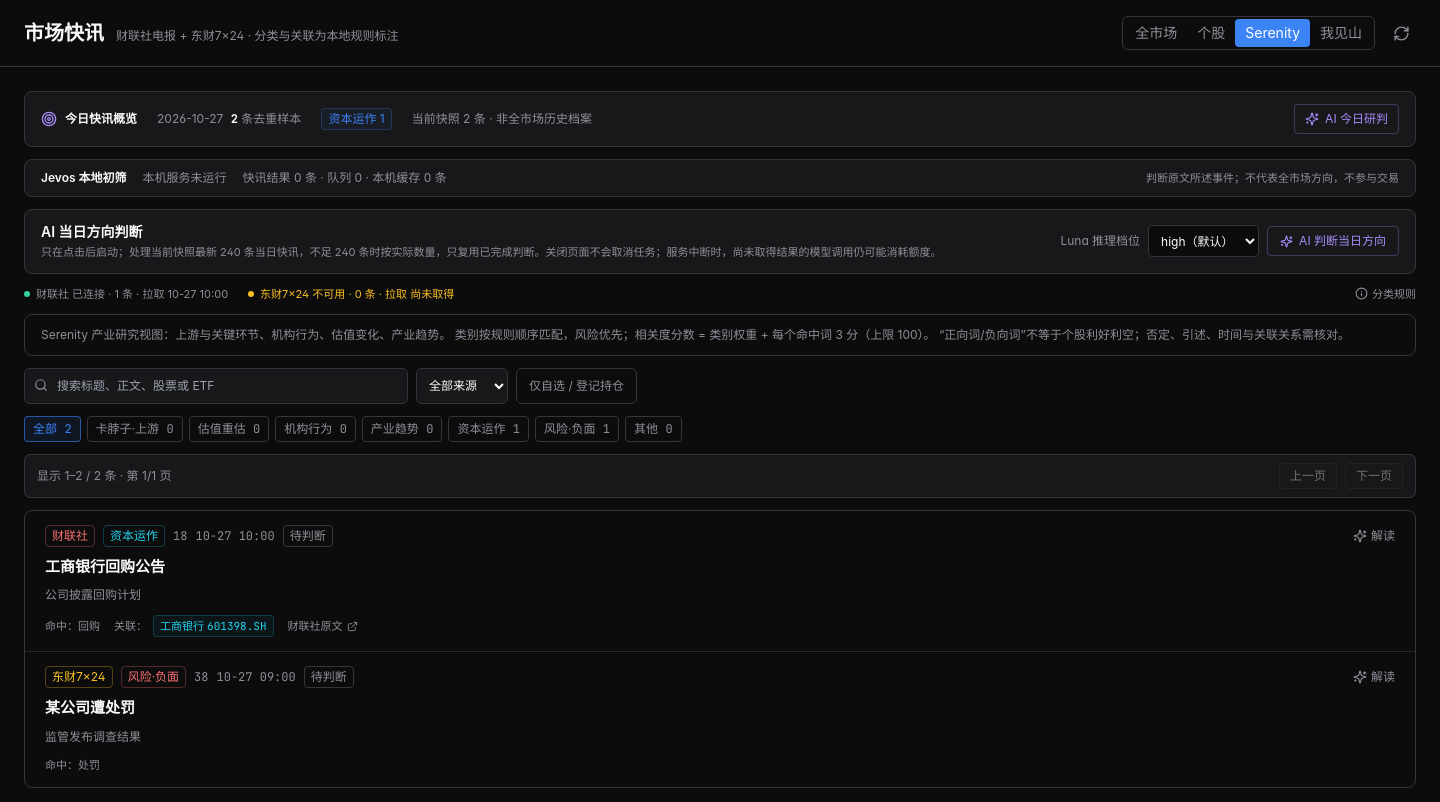
filters category with counts and changes view
This screenshot has width=1440, height=802.
Click the button "风险·负面 1" at (577, 428), box [535,416,619,442]
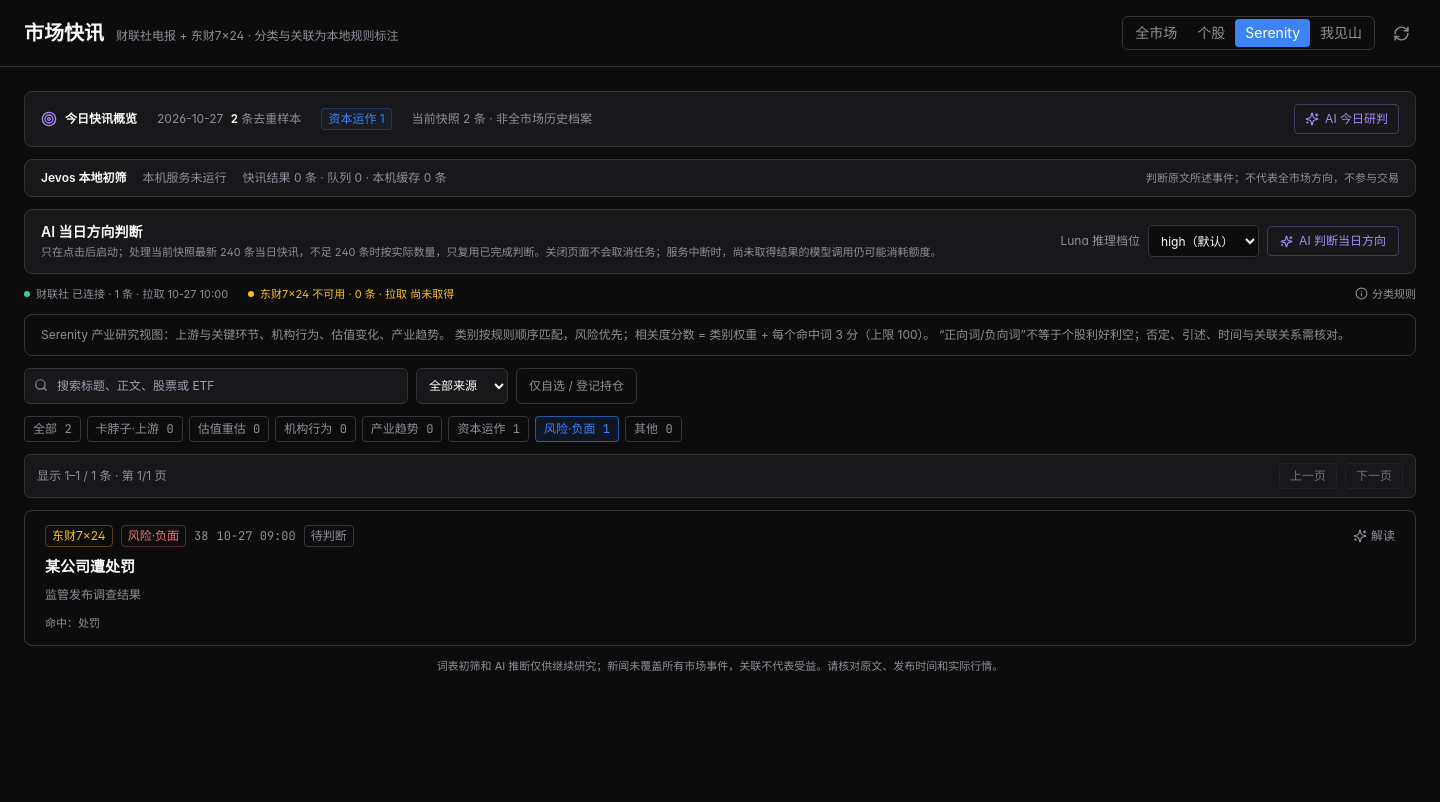
Expected: the element showing "东财7×24 风险·负面 38 10-27 09:00 待判断 解读 某公司遭处罚 监管发布调查结果 命中：处罚" is shown, [25,510,1415,645]
Click the button "个股" at (1211, 33), box [1187,19,1235,47]
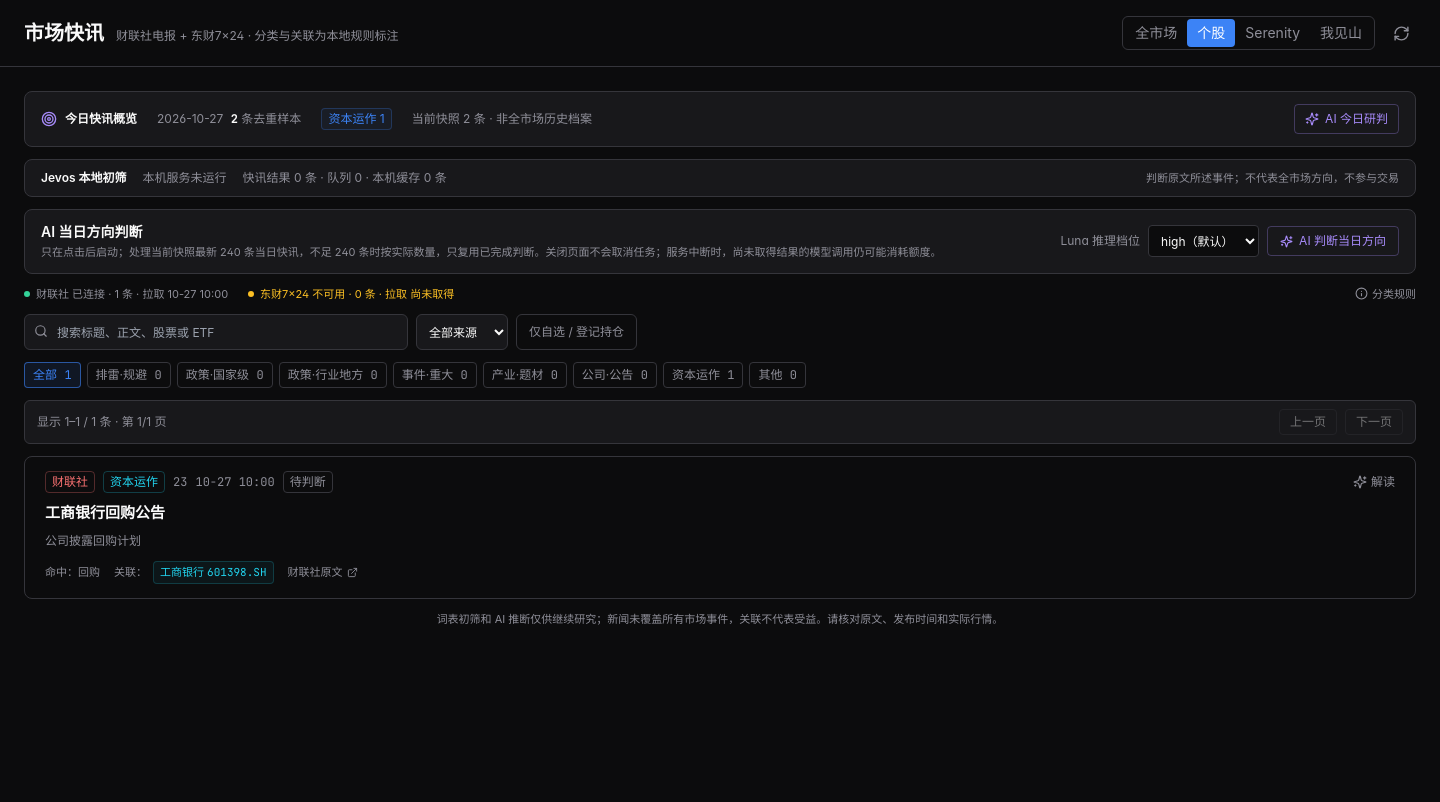
Expected: the element that starts with "财联社" shows "工商银行", [153,561,274,584]
